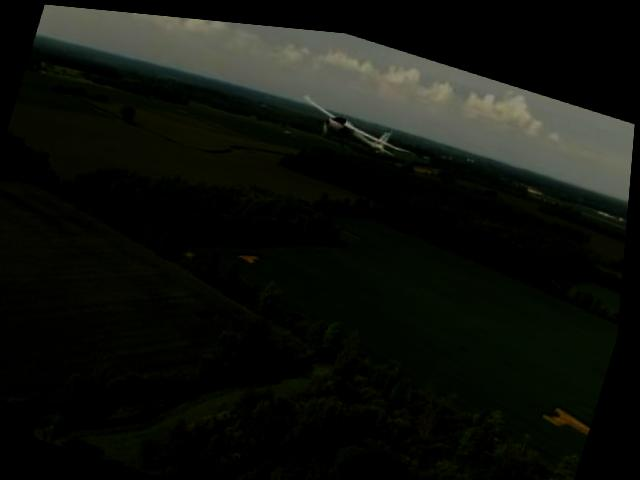uav: (285, 82, 424, 161)
